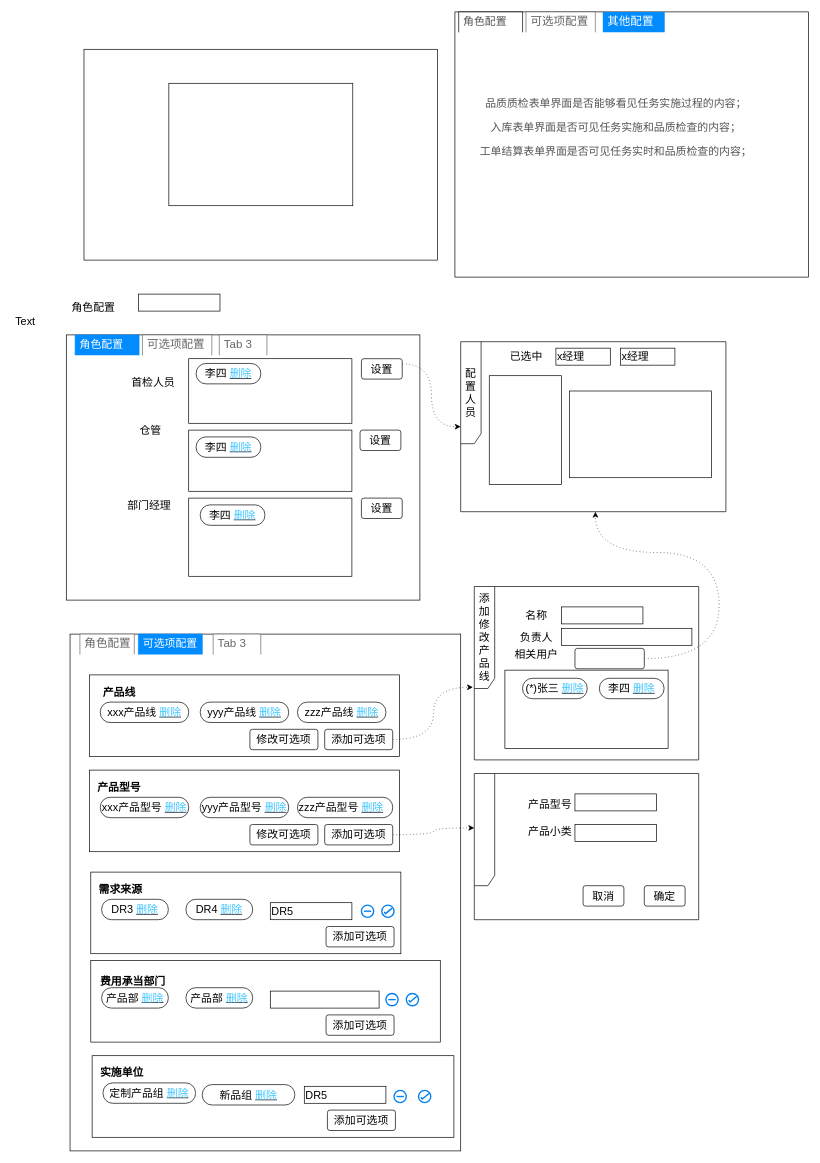
Some shapes in this 820 by 1163 pixel diagram are drawn without their labels. Each missing label, with the box of its shape:
mm产品线: (561, 606, 643, 624)
产品部-智慧连接部门: (270, 990, 379, 1008)
序号 操作用户 操作时间: (168, 83, 353, 206)
序号 用户: (569, 390, 712, 478)
添加 修改产品型号: (474, 773, 699, 920)
点击下发人员选择负责人: (561, 628, 692, 645)
设置相关用户: (574, 648, 644, 669)
部门树: (489, 375, 561, 485)
